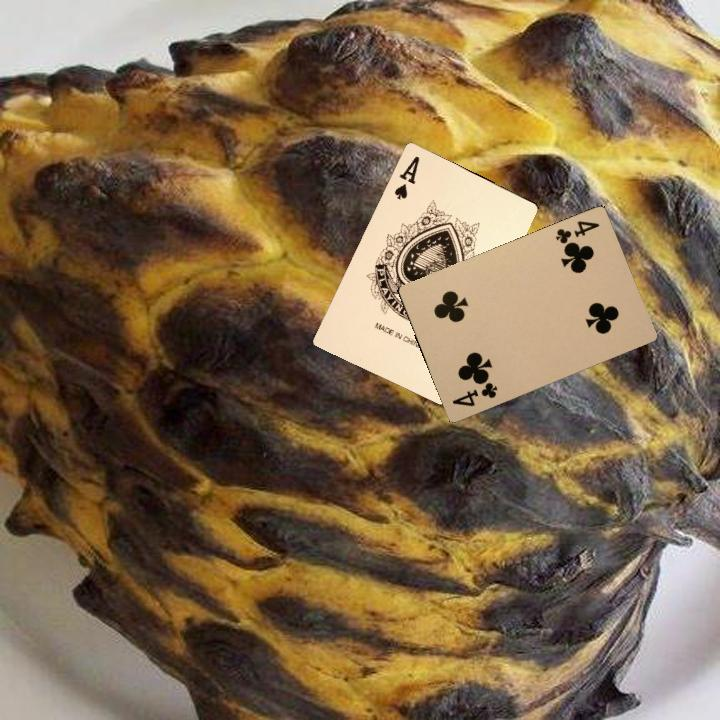4c: (551, 217, 602, 250), (448, 377, 500, 409)
As: (390, 152, 422, 202)
